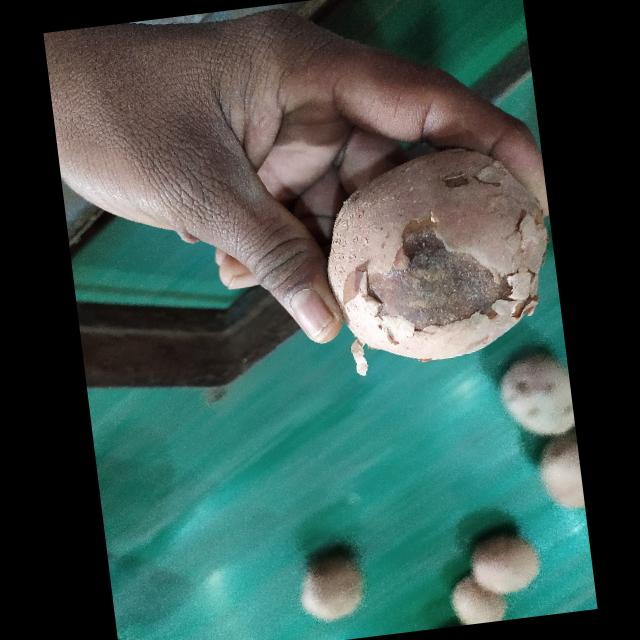Diseased-fungal potato: (340, 356, 610, 633)
